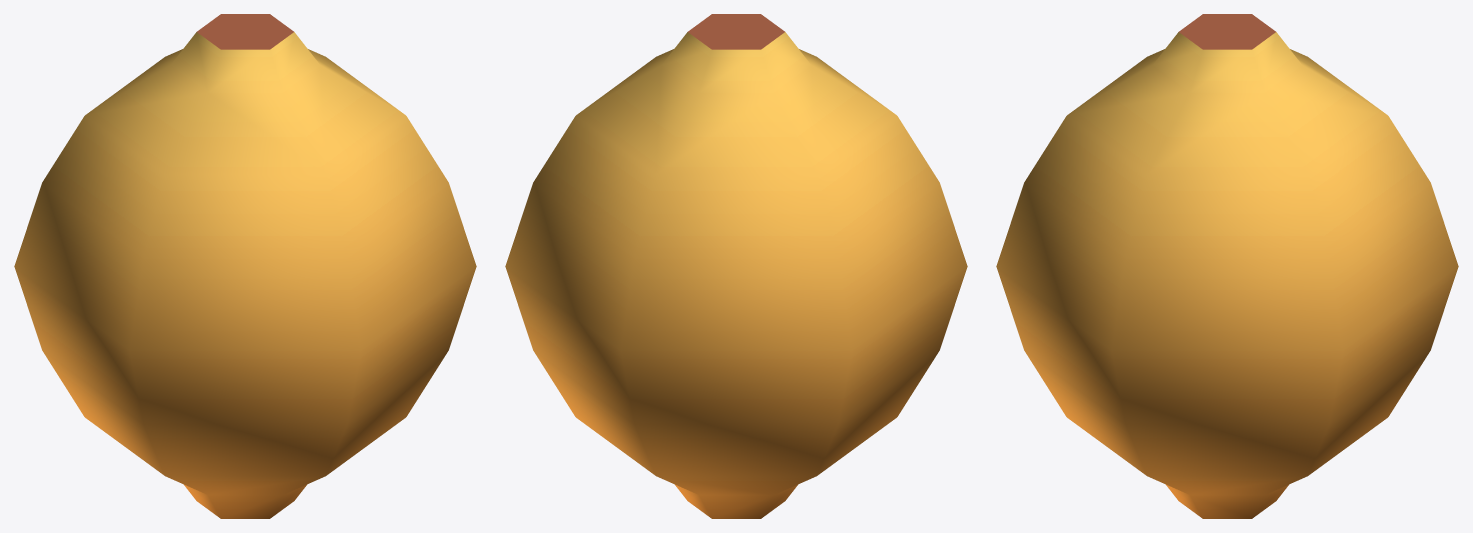
File: lemon-harvest.glb
3 renders of one model, left to right at view 1: azimuth 30°, elevation 25°; view 2: azimuth 150°, elevation 25°; view 3: azimuth 270°, elevation 25°, orthographic.
Visible parts, largest first — view 1: lemon; view 2: lemon; view 3: lemon.
Boxes of the visible parts, x1,y1,x2,y2 form: lemon: (14,14,476,518); lemon: (505,14,967,518); lemon: (996,14,1458,518).
Bounding box in the file's own units: 0.7733 × 1 × 0.8928.
1 material, 1 textured.
